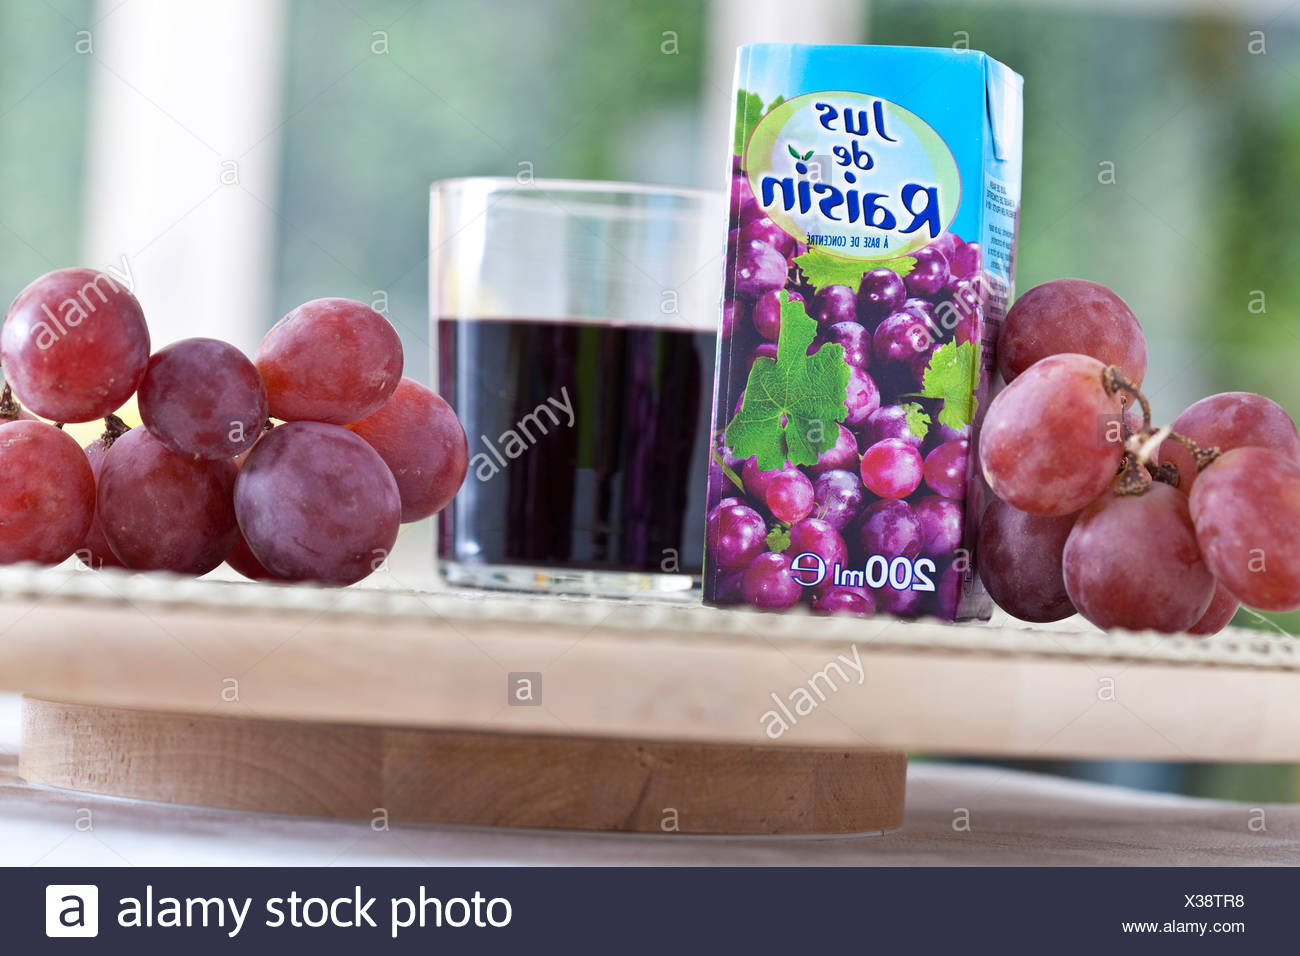carton: (693, 31, 1030, 626)
